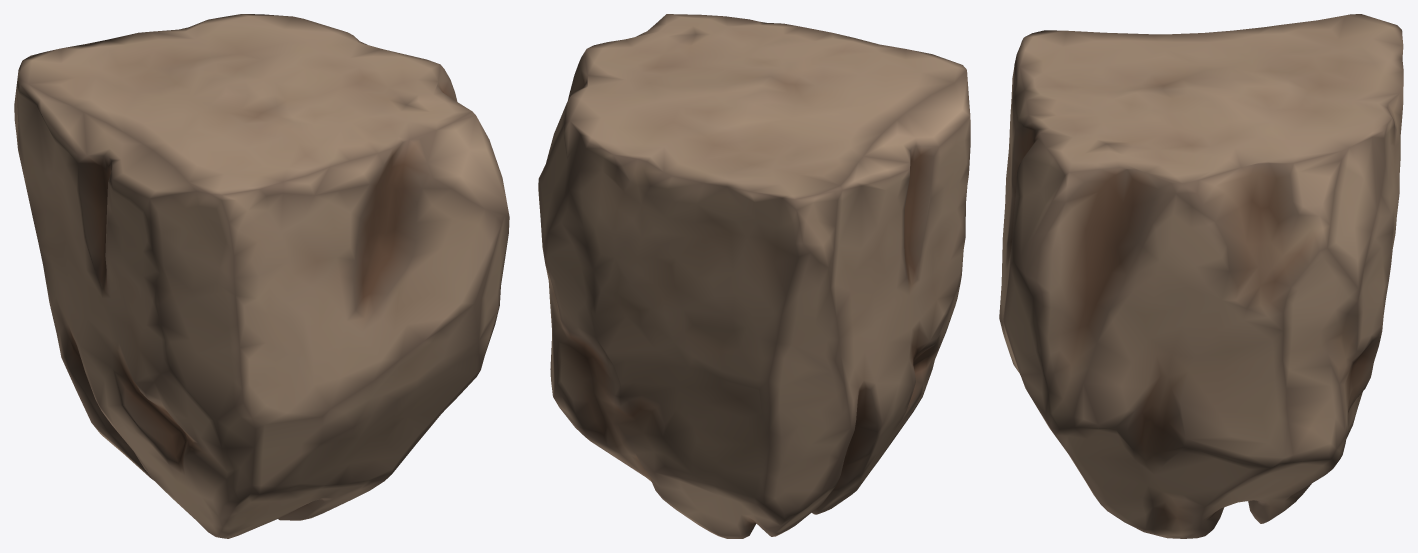
Rendered from SM_floor_rock_04.fbx.
3 views of the same model, side by side, from view 1: azimuth 30°, elevation 25°; view 2: azimuth 150°, elevation 25°; view 3: azimuth 270°, elevation 25° (orthographic).
Visible parts, largest first — view 1: floor_rock04; view 2: floor_rock04; view 3: floor_rock04.
Boxes of the visible parts, x1,y1,x2,y2 form: floor_rock04: (14, 14, 509, 538); floor_rock04: (538, 14, 970, 538); floor_rock04: (999, 14, 1403, 538).
Bounding box in the file's own units: 111 × 132 × 110.
